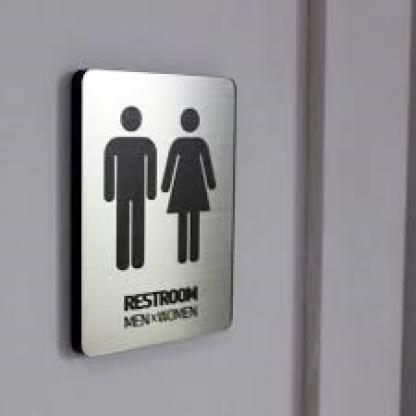toilet: (96, 99, 219, 276)
